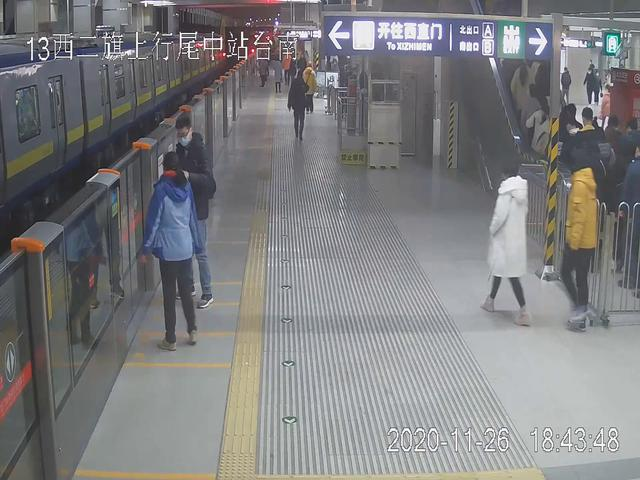person: (136, 152, 198, 349), (165, 114, 214, 316), (480, 155, 533, 329), (560, 148, 599, 334), (285, 72, 310, 142)
